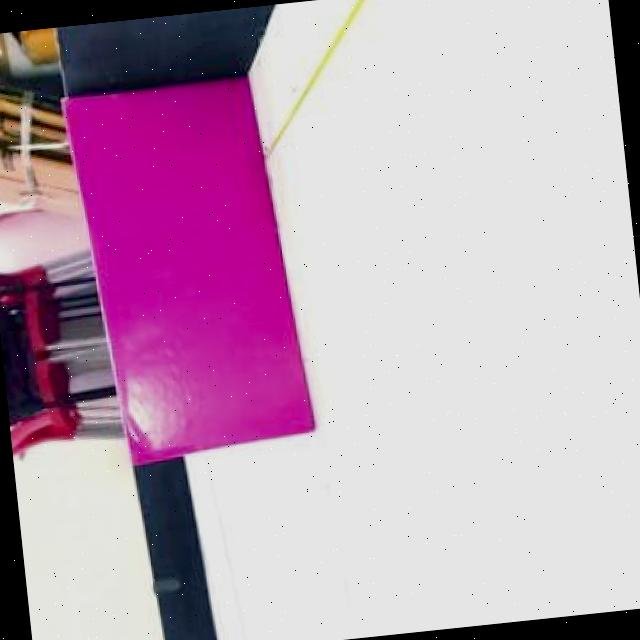xparking: (92, 78, 294, 458)
